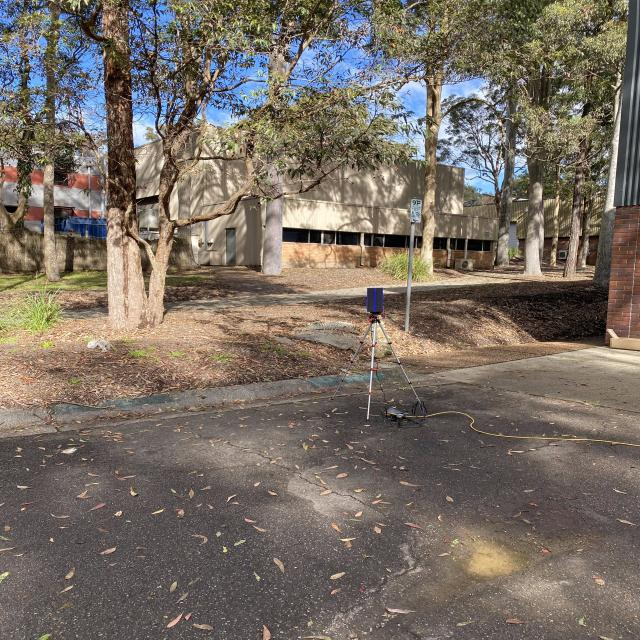matrix: (363, 286, 387, 314)
